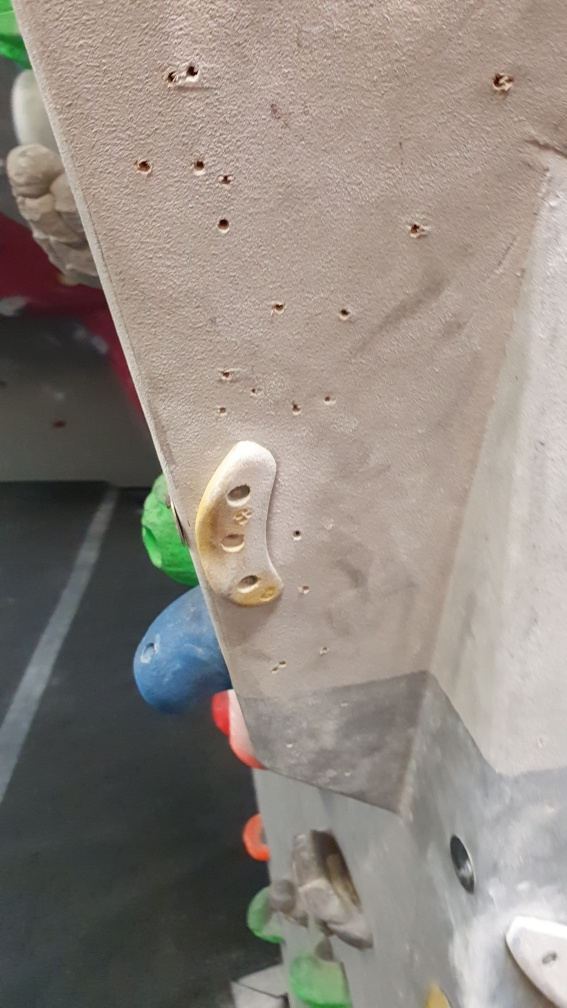Crimp: (509, 914, 567, 993)
Hand Start: (442, 831, 476, 896)
Jug: (290, 818, 386, 953)
